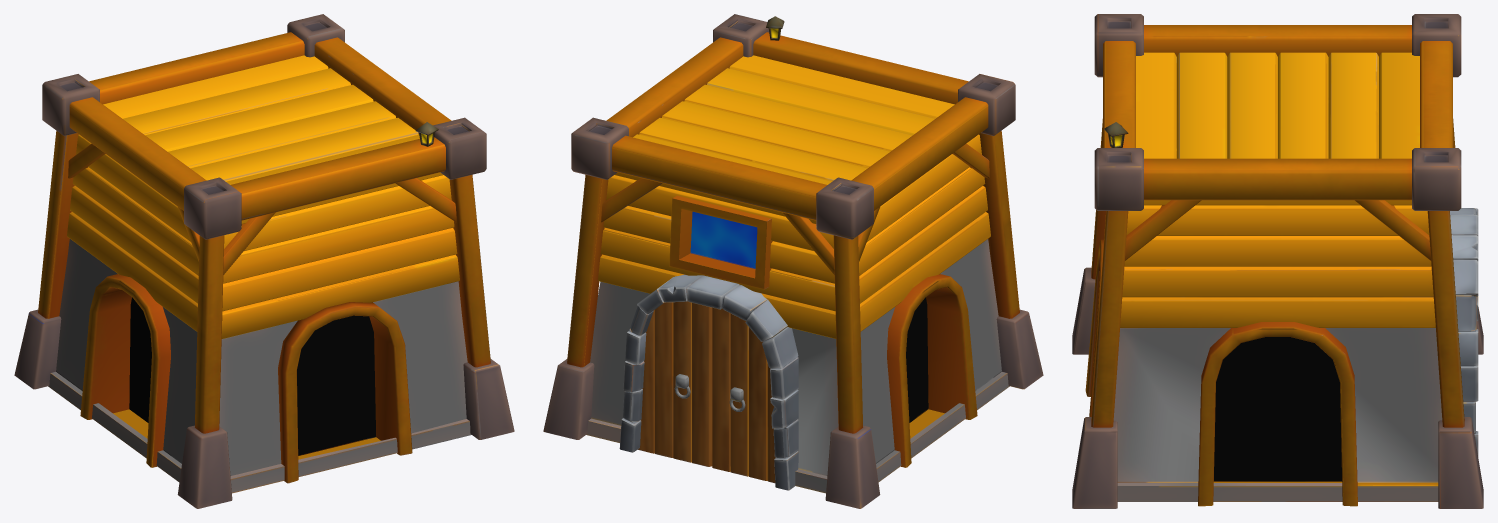
The picture shows the model from 3 angles, left to right: view 1: azimuth 30°, elevation 25°; view 2: azimuth 150°, elevation 25°; view 3: azimuth 270°, elevation 25°; orthographic projection. The views are drawn at different scales.
Parts seen in each view (by area): view 1: base_Baked; view 2: base_Baked; view 3: base_Baked.
Part boxes in pixels (<box>): base_Baked: <box>14,14,514,508</box>; base_Baked: <box>543,14,1043,508</box>; base_Baked: <box>1072,14,1483,508</box>.
Bounding box in the file's own units: 300 × 285 × 300.
Materials: 1 (1 with a texture image).
